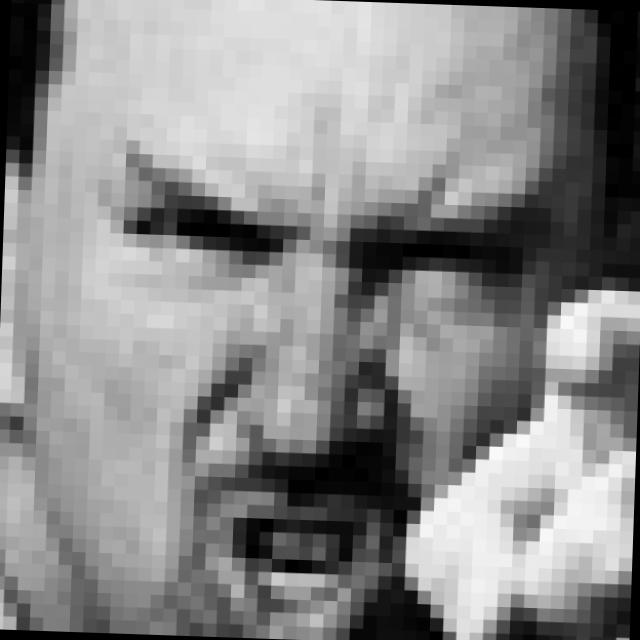angry: (103, 139, 538, 640)
